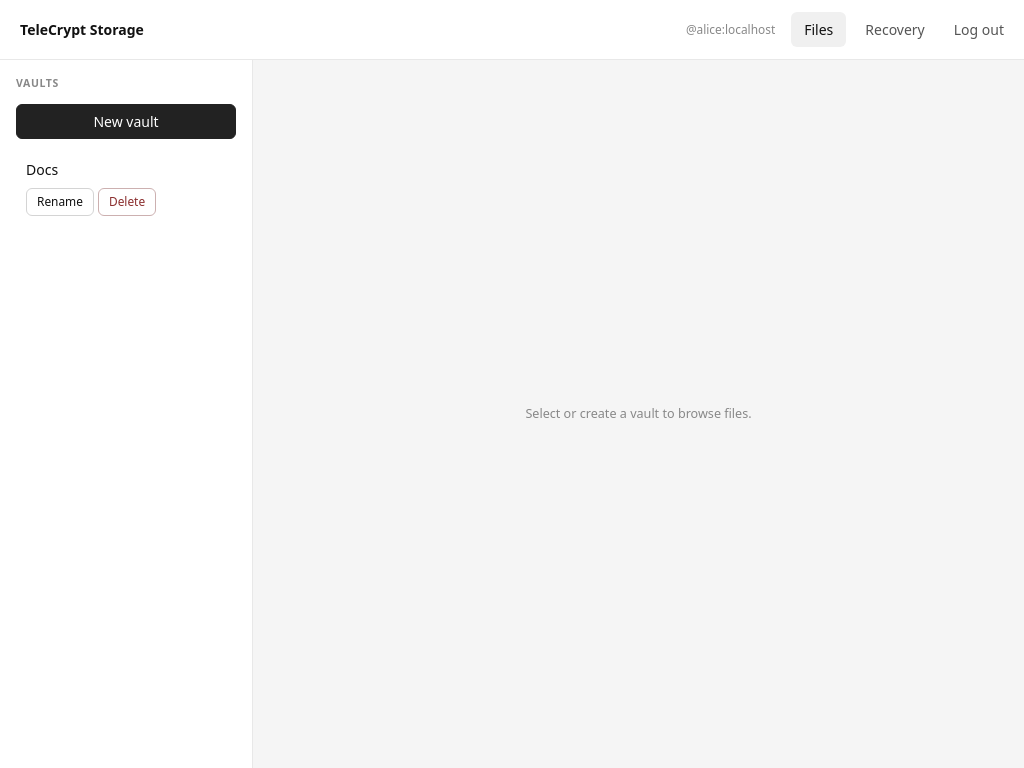
it: vault contents › clears root contents while a nested folder is still loading
The image size is (1024, 768).
Expected: the text with test id "current-user" reads "@alice:localhost", [686, 21, 775, 37]
Click the button "Docs".
click(126, 169)  # box [16, 151, 236, 188]
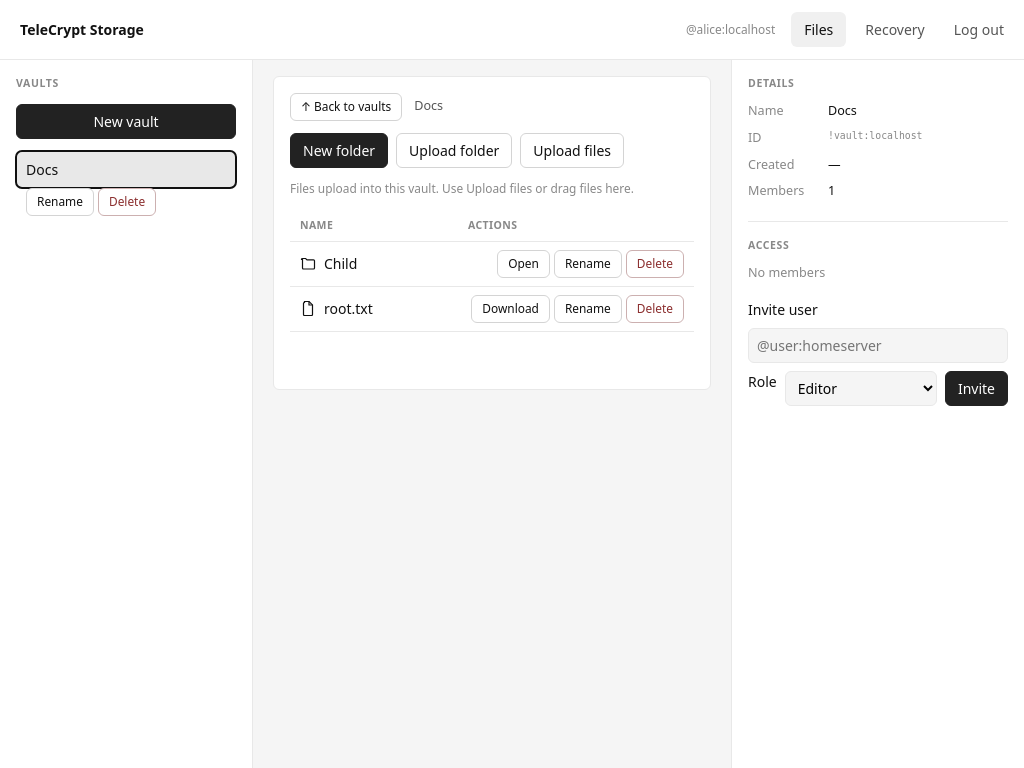
Expected: the element with test id "vault-detail" is shown, [273, 76, 711, 390]
Expected: the text "root.txt" is shown, [324, 298, 373, 318]
Expected: the text "Docs" is shown, [828, 102, 857, 119]
Click the button with class "row-name-btn".
click(329, 263)  # box [300, 253, 357, 274]
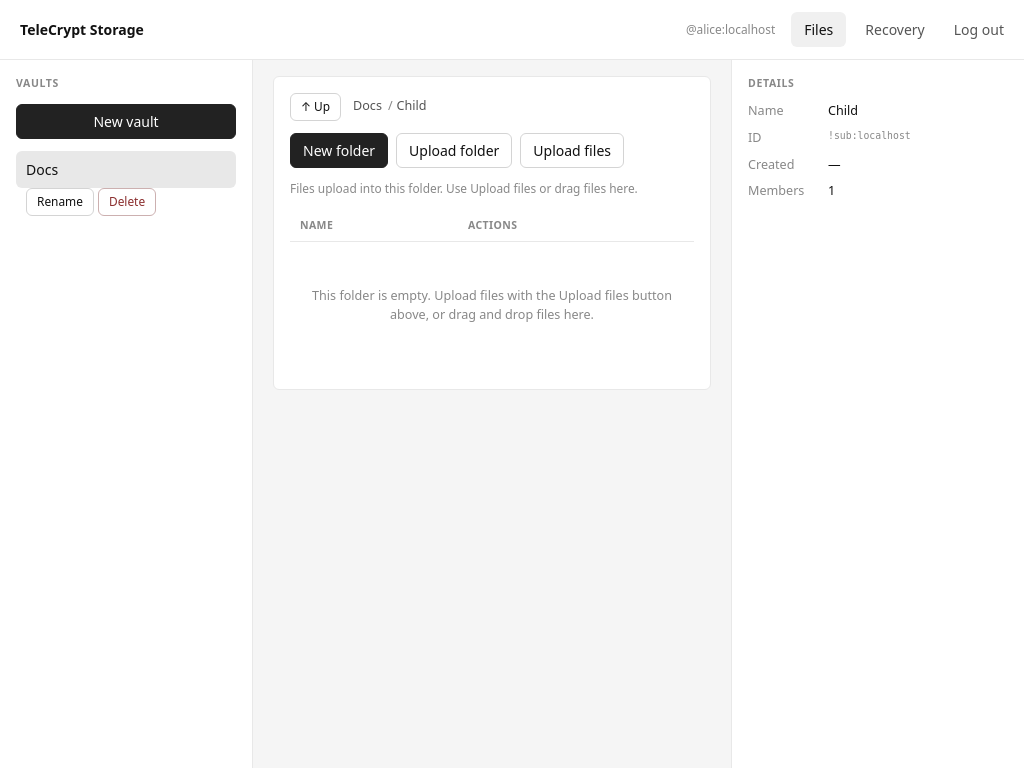
Expected: the text "root.txt" is gone
Expected: the text with test id "no-files" is shown, [312, 287, 672, 323]
Expected: the element with test id "members-panel" is gone
Click the 1st button with test id "breadcrumb-item".
click(367, 107)  # box [353, 98, 382, 116]
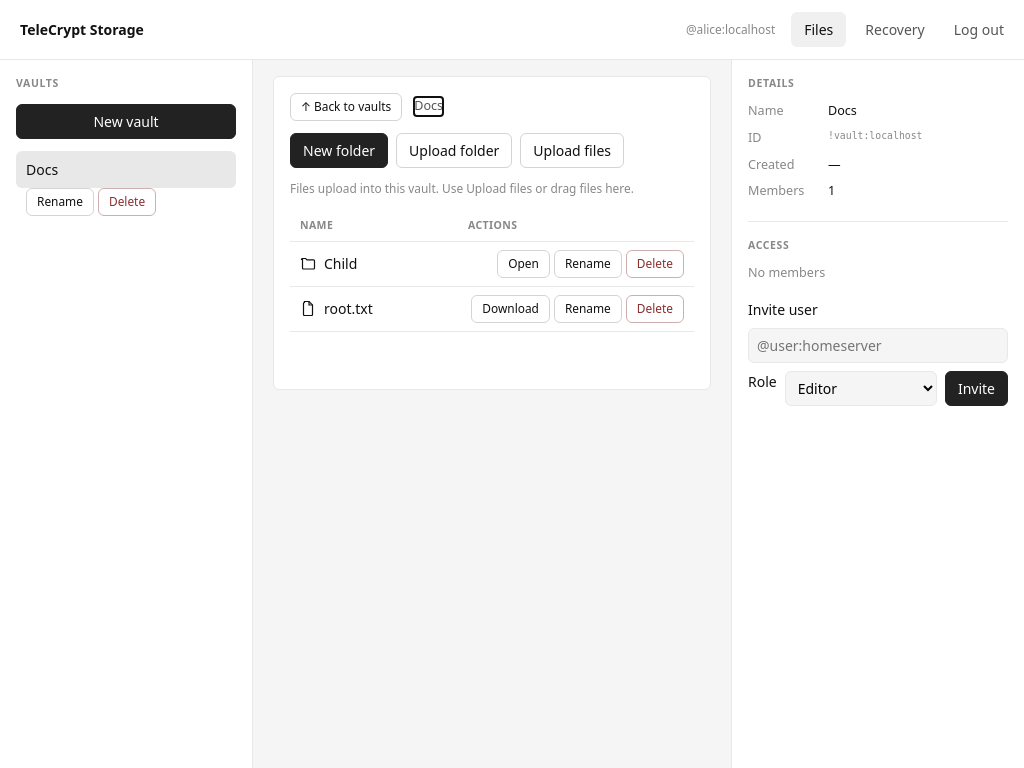
Expected: the element with test id "members-panel" is shown, [748, 238, 1008, 406]
